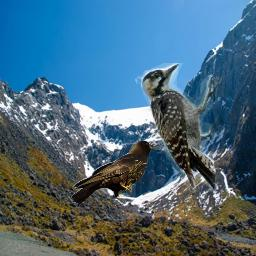Crow: (71, 138, 162, 207)
Woodpecker: (140, 63, 223, 194)
